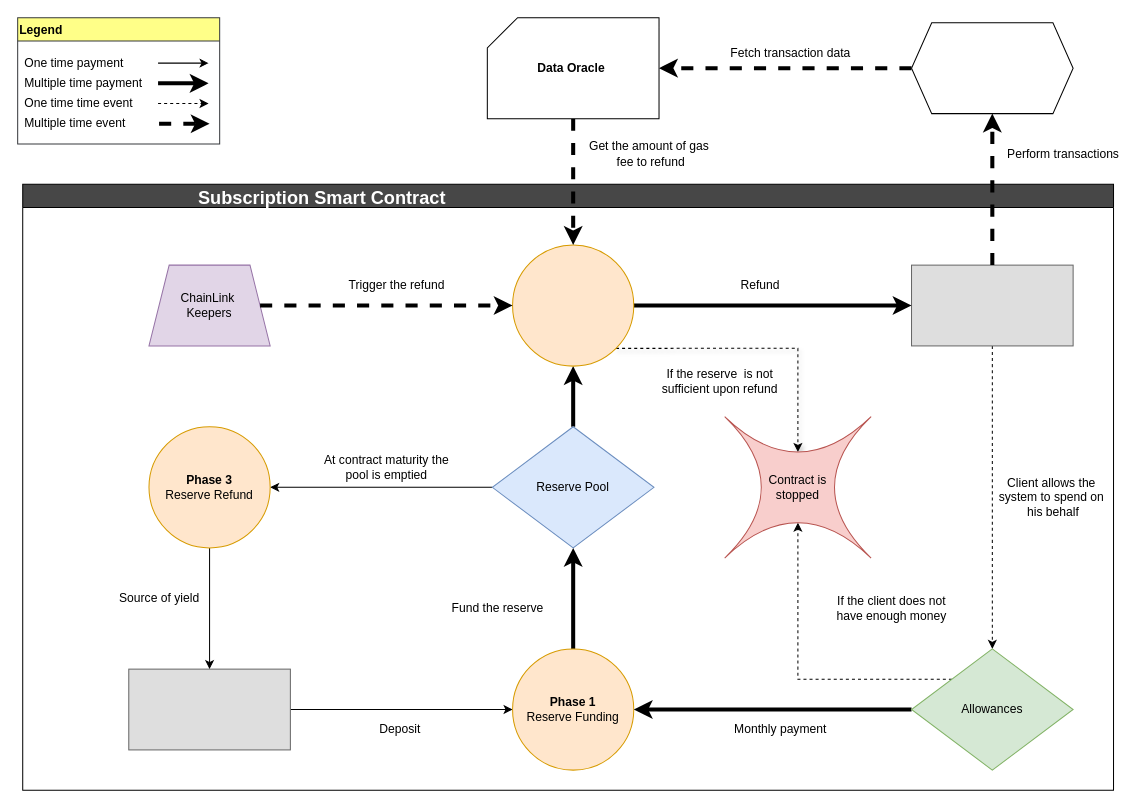
Image size: 1146x808. Some labels were removed from this diagram. Here are the shapes that lost their labels. From the top down, the centre of each, then its label:
At pixel 992 68: "Ethereum Mainnet".
At pixel 573 305: "Phase 2 Gas Fee Refund".
At pixel 992 305: "Client".
At pixel 209 709: "Provider".
